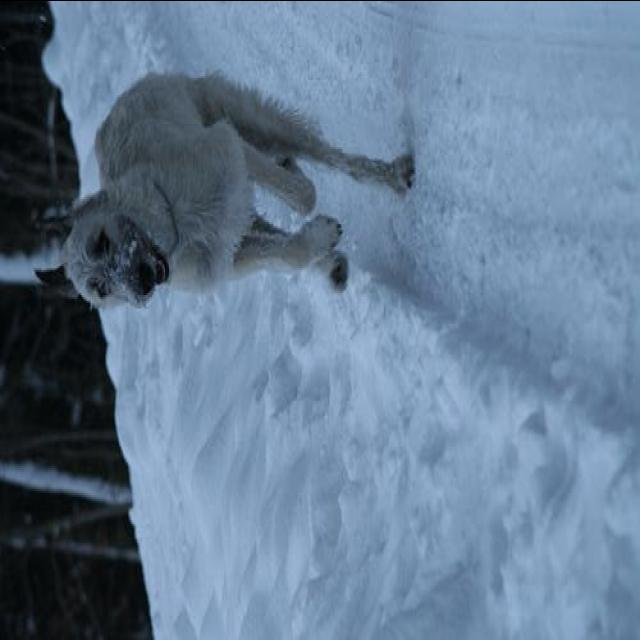irish_wolfhound: (45, 63, 413, 310)
